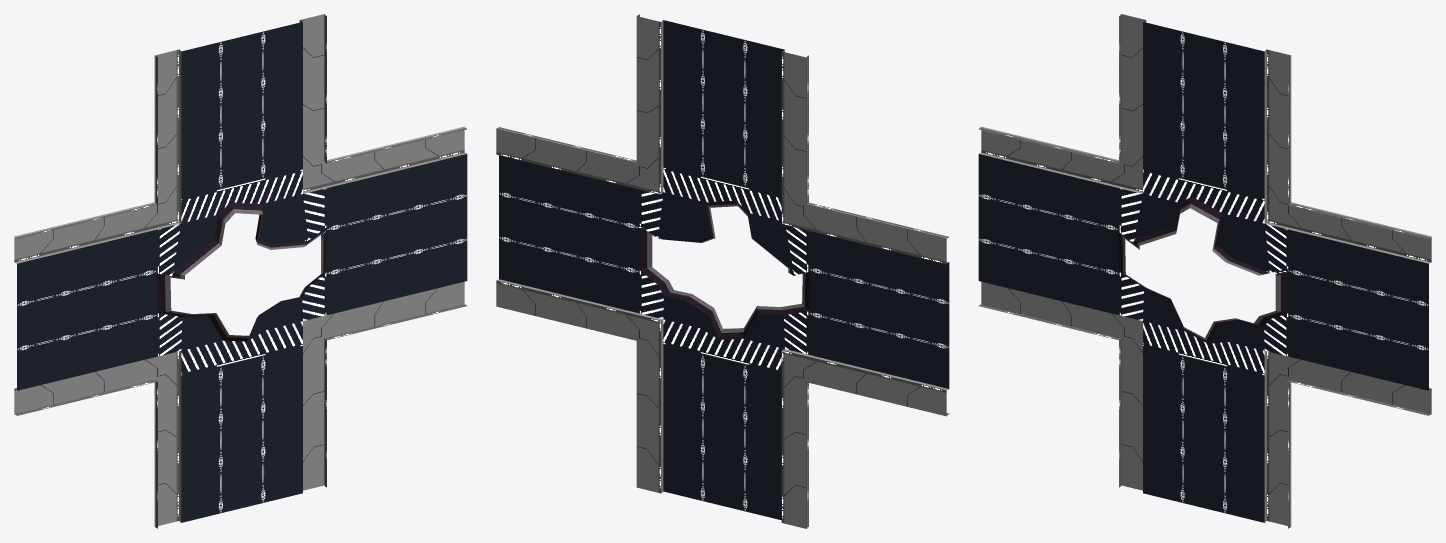
File: SM_M_BXroad.fbx
The picture shows the model from 3 angles, left to right: view 1: azimuth 30°, elevation 25°; view 2: azimuth 150°, elevation 25°; view 3: azimuth 330°, elevation 25°; orthographic projection.
Visible parts, largest first — view 1: SM_M_BXroad; view 2: SM_M_BXroad; view 3: SM_M_BXroad.
Part boxes in pixels (<box>): SM_M_BXroad: <box>14,14,467,528</box>; SM_M_BXroad: <box>496,14,949,528</box>; SM_M_BXroad: <box>978,14,1431,528</box>.
Bounding box in the file's own units: 10435 × 10435 × 247.
